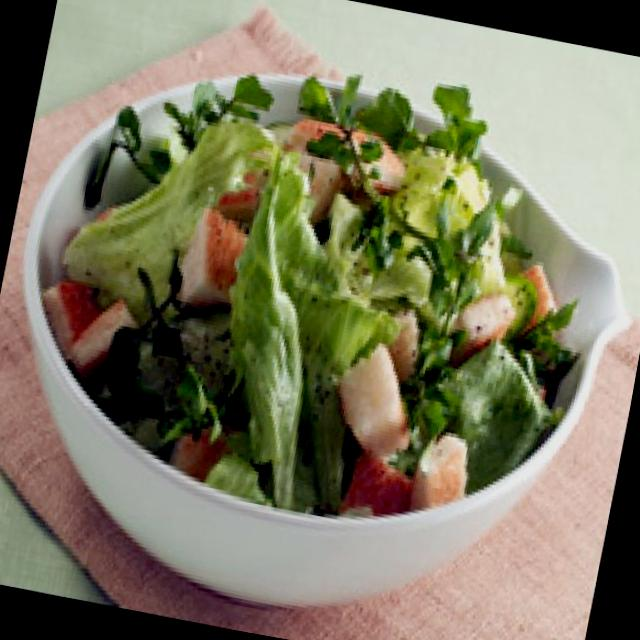Green Salad: (14, 70, 593, 516)
